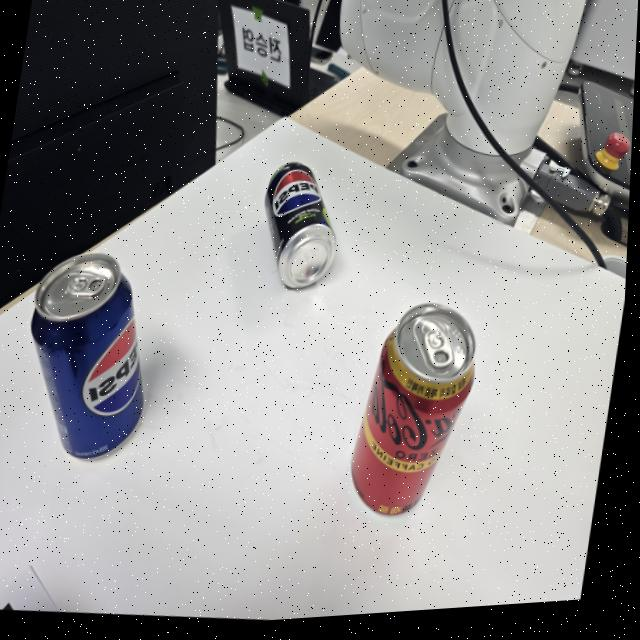can_coke_decaf: (350, 303, 474, 513)
can_pepsi: (28, 252, 144, 457)
can_pepsi_zero: (264, 160, 337, 285)
